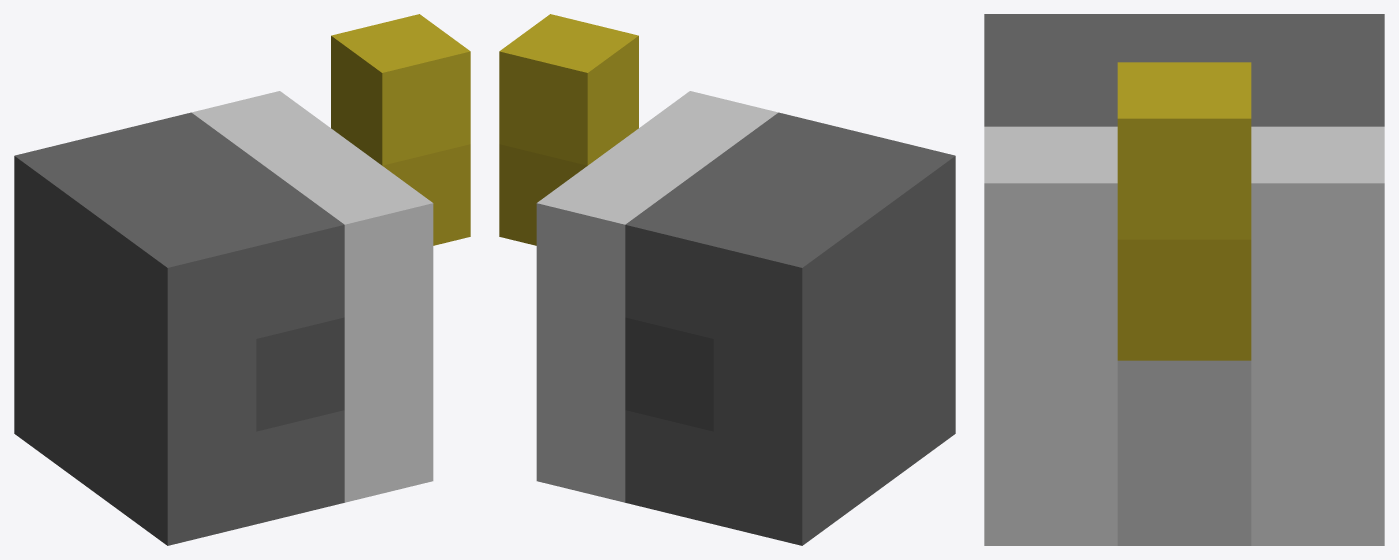
File: guardianLeftHand.obj
The picture shows the model from 3 angles, left to right: view 1: azimuth 30°, elevation 25°; view 2: azimuth 150°, elevation 25°; view 3: azimuth 270°, elevation 25°; orthographic projection. The views are drawn at different scales.
Parts seen in each view (by area): view 1: leftHand; view 2: leftHand; view 3: leftHand.
Boxes of the visible parts, x1,y1,x2,y2 form: leftHand: (14,14,470,545); leftHand: (499,14,955,545); leftHand: (984,14,1384,545).
Bounding box in the file's own units: 0.3 × 0.3 × 0.225.
